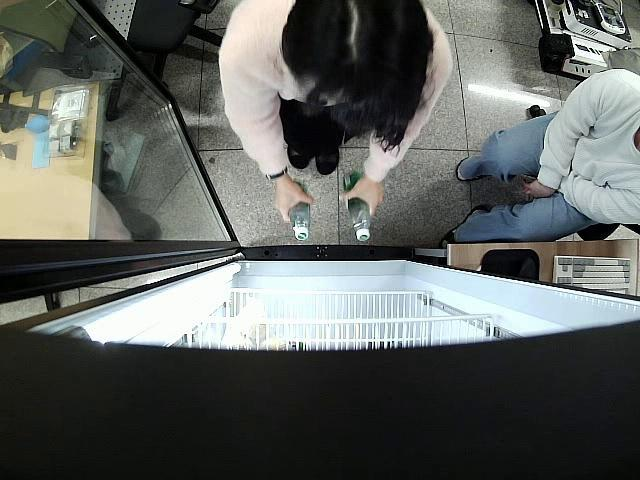18_trevi: (342, 169, 375, 243), (291, 180, 314, 241)
